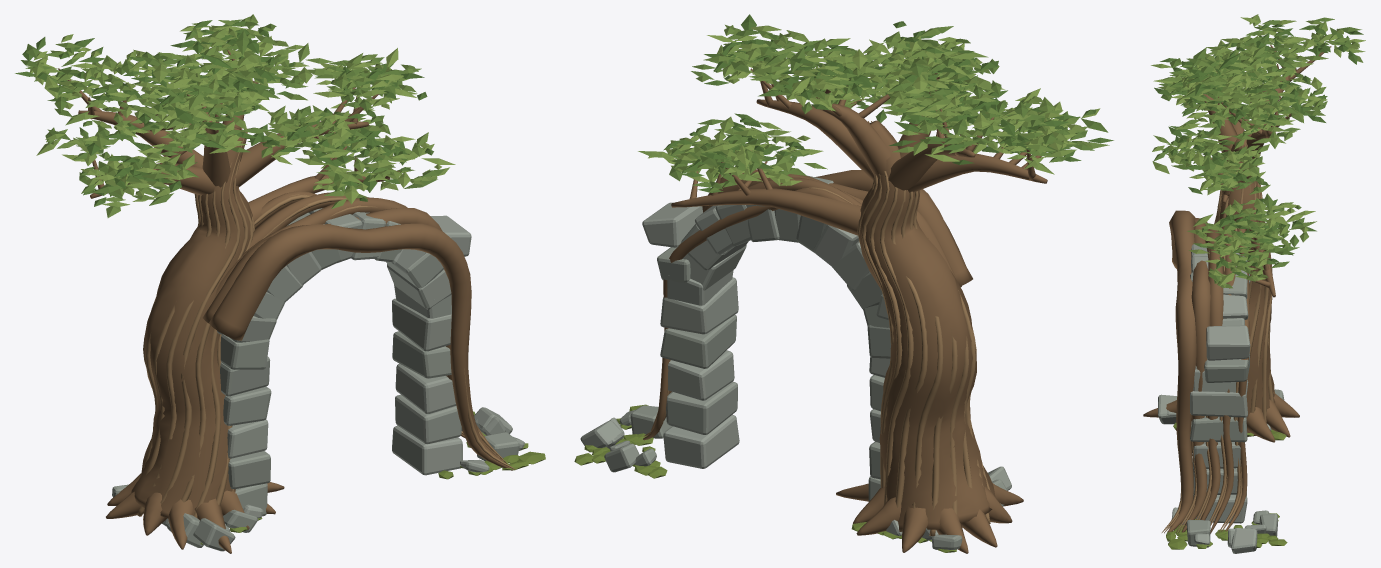
The model's file is root-gate-v1.glb.
The picture shows the model from 3 angles, left to right: view 1: azimuth 30°, elevation 25°; view 2: azimuth 150°, elevation 25°; view 3: azimuth 270°, elevation 25°; orthographic projection. The views are drawn at different scales.
Visible parts, largest first — view 1: warm bark, foliage4, foliage2, foliage3, foliage1, foliage0, bark ridges, stone3, stone2, stone1, stone4, stone0 (+1 smaller); view 2: warm bark, bark ridges, foliage4, foliage1, foliage0, stone3, foliage3, stone4, foliage2, stone2, stone1, stone0 (+1 smaller); view 3: warm bark, foliage3, foliage0, foliage4, foliage1, foliage2, bark ridges, stone4, stone3, stone0, stone2, stone1 (+1 smaller).
Boxes of the visible parts, box(x1,y1,x2,y2) form: warm bark: box(58, 49, 512, 553); foliage4: box(29, 25, 455, 204); foliage2: box(41, 14, 437, 217); foliage3: box(26, 28, 449, 207); foliage1: box(21, 19, 444, 205); foliage0: box(15, 20, 433, 206); bark ridges: box(137, 128, 515, 517); stone3: box(226, 263, 524, 530); stone2: box(193, 208, 462, 551); stone1: box(112, 221, 519, 547); stone4: box(162, 215, 489, 526); stone0: box(287, 212, 451, 378); warm bark: box(643, 68, 1047, 553); bark ridges: box(644, 121, 990, 536); foliage4: box(648, 25, 1086, 185); foliage1: box(669, 26, 1108, 192); foliage0: box(663, 14, 1113, 192); stone3: box(580, 241, 938, 540); foliage3: box(652, 30, 1100, 181); stone4: box(642, 202, 927, 542); foliage2: box(638, 25, 1109, 175); stone2: box(609, 175, 1011, 490); stone1: box(604, 205, 1007, 549); stone0: box(634, 215, 826, 466); warm bark: box(1143, 45, 1331, 533); foliage3: box(1151, 14, 1365, 287); foliage0: box(1154, 24, 1363, 276); foliage4: box(1153, 17, 1365, 285); foliage1: box(1153, 17, 1361, 283); foliage2: box(1153, 35, 1363, 288); bark ridges: box(1162, 142, 1275, 533); stone4: box(1171, 247, 1271, 524); stone3: box(1167, 366, 1257, 553); stone0: box(1190, 354, 1269, 524); stone2: box(1158, 244, 1266, 533); stone1: box(1186, 272, 1284, 547).
Size of the model in its own units: 6.5 by 6.23 by 3.31.
